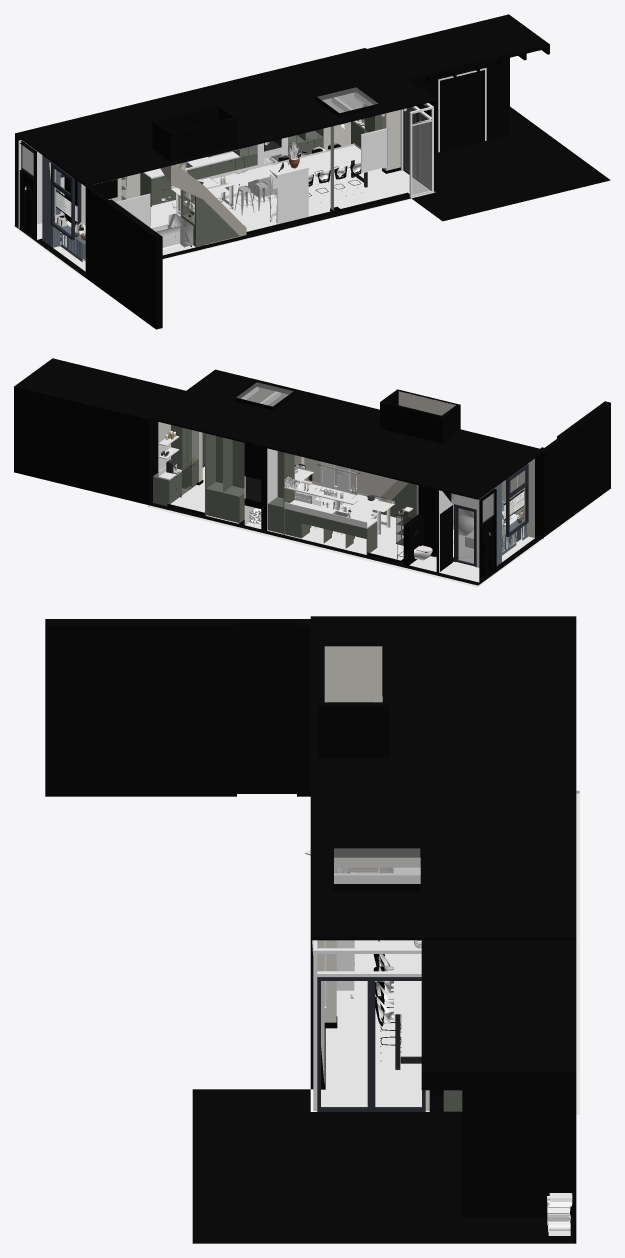
File: huis.glb
3 views of the same model, one above another, from view 1: azimuth 30°, elevation 25°; view 2: azimuth 150°, elevation 25°; view 3: azimuth 270°, elevation 25° (orthographic). The views are drawn at different scales.
Size of the model in its own units: 16.91 by 4.01 by 8.43.
